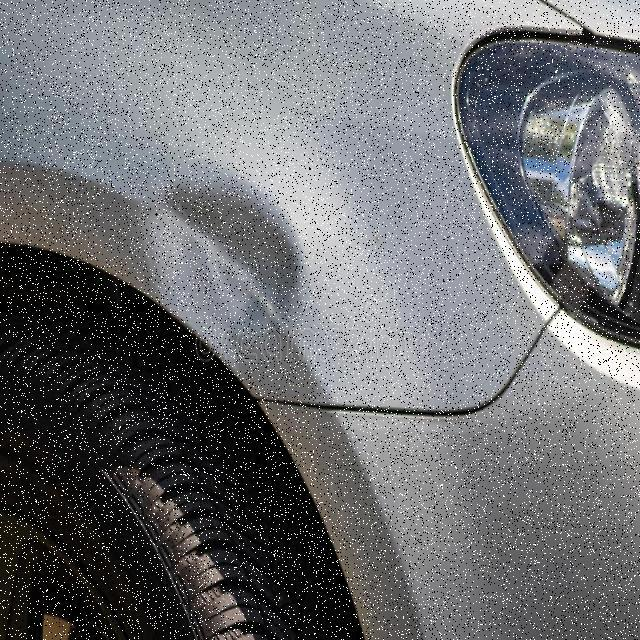bumper: (0, 0, 478, 413)
